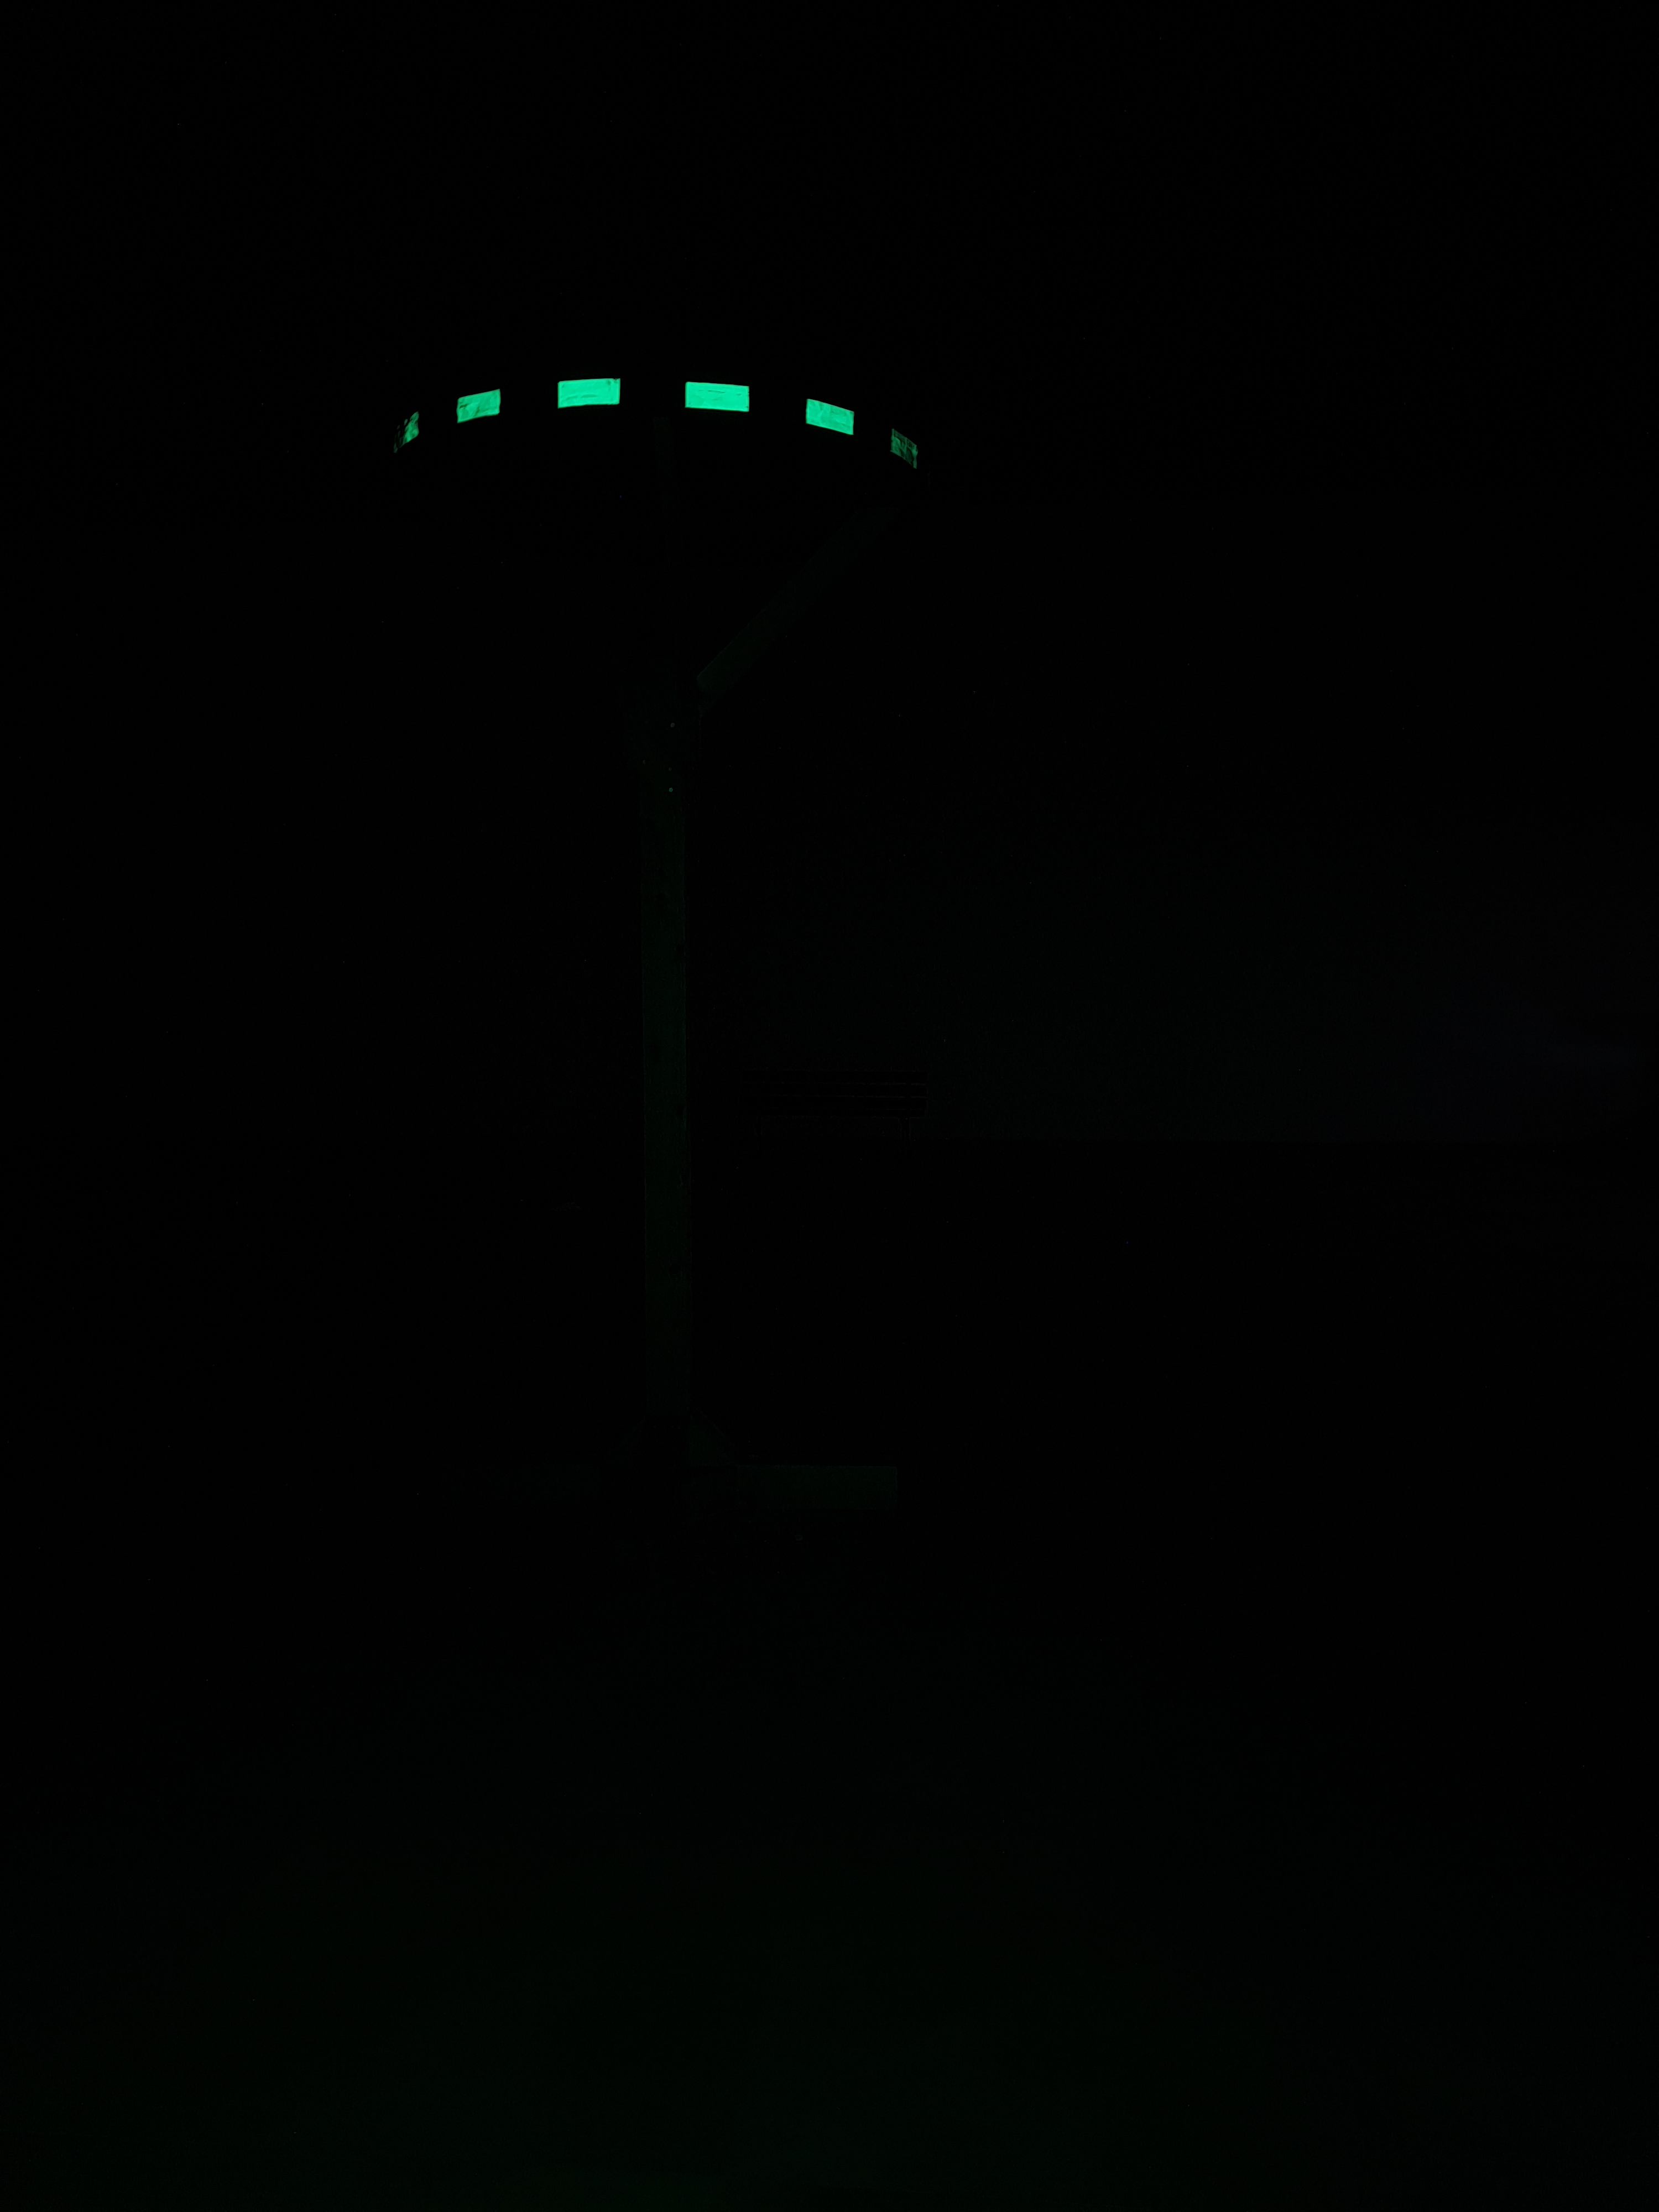hoop: (397, 373, 924, 507)
